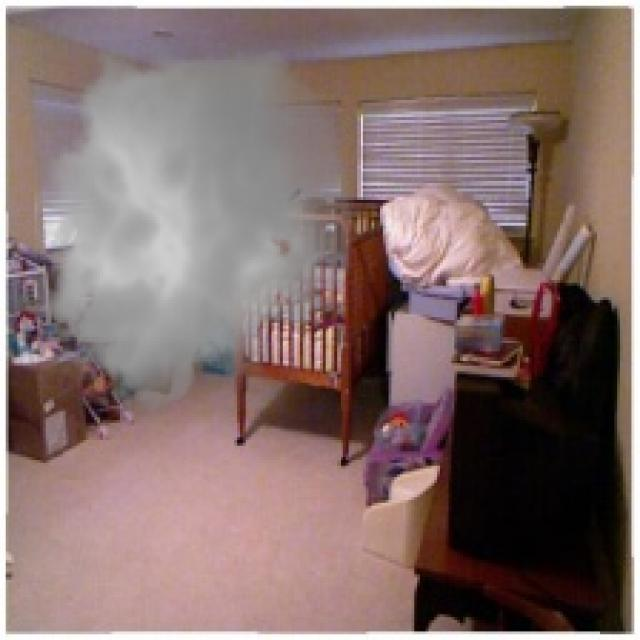Smoke: (20, 28, 366, 426)
